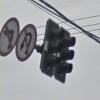traffic lights: (58, 26, 77, 85)
